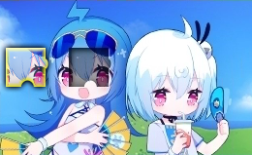gap: (69, 49, 112, 88)
